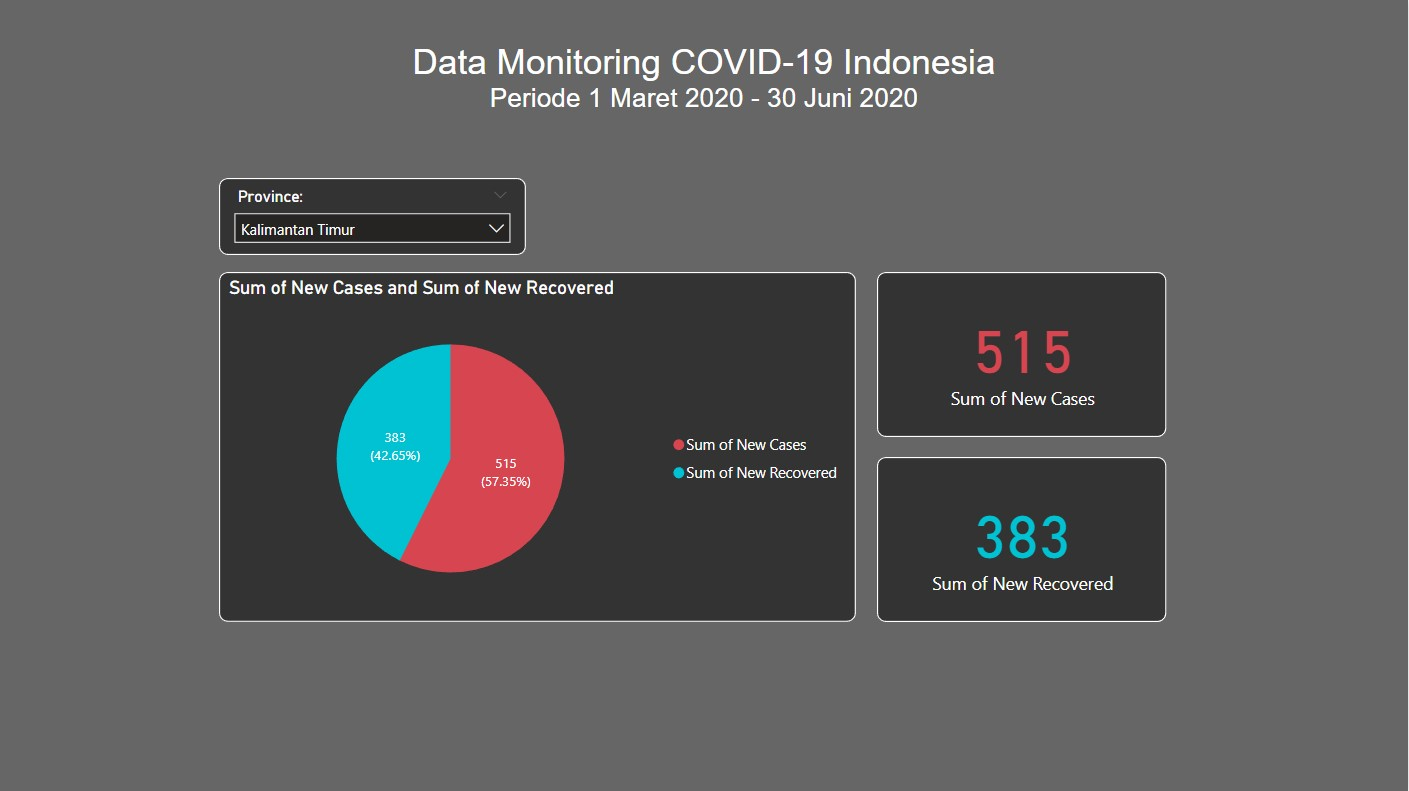

Layout of this report page (visuals, bound fields, positions):
{"tool":"powerbi","page":{"name":"Pie Chart","canvas":[1280,720],"ordinal":1},"visuals":[{"type":"pieChart","fields":{"Y":["Sum(covid_19_indonesia_time_series_all.New Cases)","Sum(covid_19_indonesia_time_series_all.New Recovered)"]},"box":[198.8,247.5,578.8,317.5],"z":0},{"type":"textbox","box":[270,33.8,740,80],"z":1000},{"type":"card","fields":{"Values":["Sum(covid_19_indonesia_time_series_all.New Cases)"]},"box":[797.5,247.5,262.5,150],"z":2000},{"type":"card","fields":{"Values":["Sum(covid_19_indonesia_time_series_all.New Recovered)"]},"box":[797.5,415,262.5,150],"z":3000},{"type":"slicer","fields":{"Values":["covid_19_indonesia_time_series_all.Province"]},"box":[198.9,162.2,278.9,70],"z":4000}]}

Visuals, with their boxes in screenshot pixels (x1, y1, x2, y2), scaled from the page's 1280x720 canvas onto the 1409x791 screenshot:
pieChart - Sum(covid_19_indonesia_time_series_all.New Cases) x Sum(covid_19_indonesia_time_series_all.New Recovered): left=219, top=272, right=856, bottom=621
textbox: left=297, top=37, right=1112, bottom=125
card - Sum(covid_19_indonesia_time_series_all.New Cases): left=878, top=272, right=1167, bottom=437
card - Sum(covid_19_indonesia_time_series_all.New Recovered): left=878, top=456, right=1167, bottom=621
slicer - covid_19_indonesia_time_series_all.Province: left=219, top=178, right=526, bottom=255
